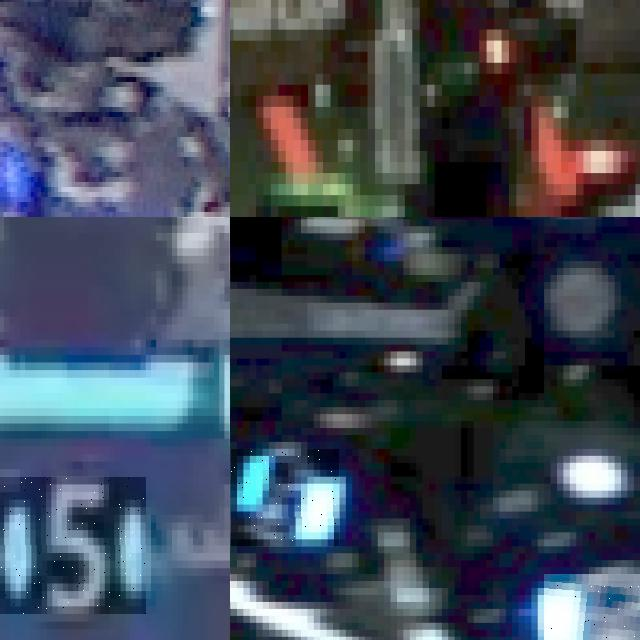B5: (0, 477, 145, 614)
Bs: (231, 449, 339, 546), (544, 574, 640, 640)
